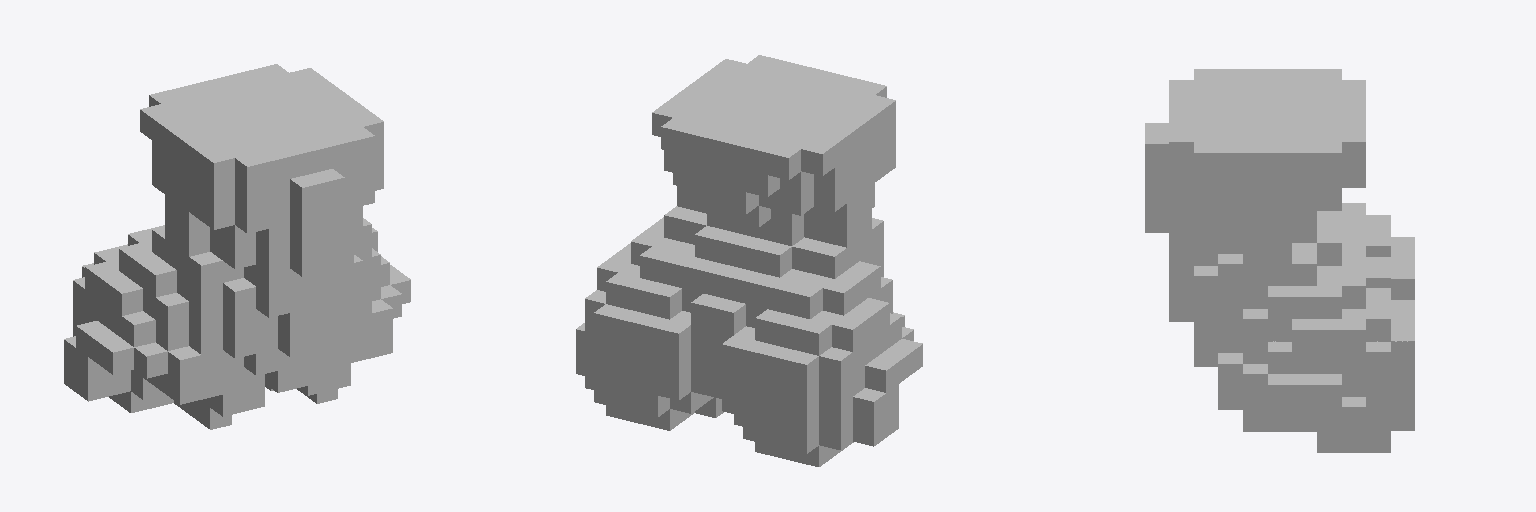
Rendered from LowerBody_05.obj.
The picture shows the model from 3 angles: view 1: azimuth 30°, elevation 25°; view 2: azimuth 150°, elevation 25°; view 3: azimuth 270°, elevation 25°; orthographic projection.
Visible parts, largest first — view 1: LowerBody_05; view 2: LowerBody_05; view 3: LowerBody_05.
Part boxes in pixels (left/top/right/bottom): LowerBody_05: left=64, top=64, right=410, bottom=429; LowerBody_05: left=576, top=55, right=922, bottom=466; LowerBody_05: left=1145, top=69, right=1414, bottom=452.
Bounding box in the file's own units: 1.4 × 1.3 × 1.1.